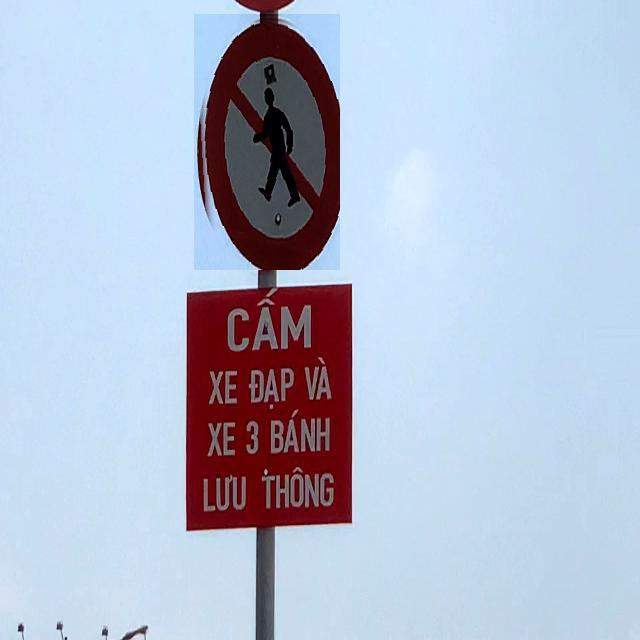P-112: (194, 15, 340, 271)
